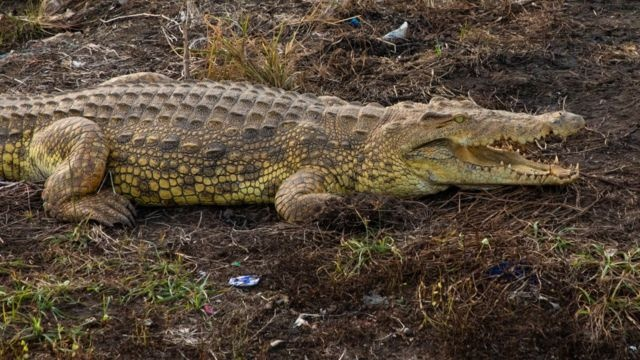crocodile: (1, 68, 587, 231)
